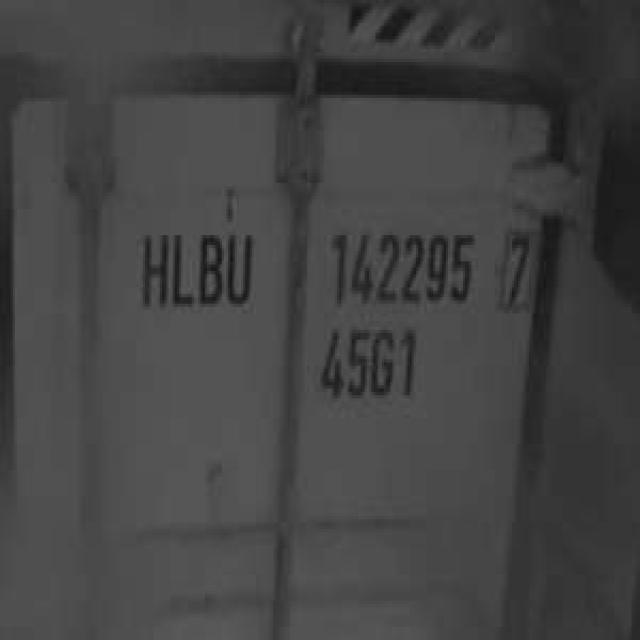dv: (495, 222, 538, 317)
owner: (132, 216, 258, 316)
serial: (320, 219, 478, 310)
size: (314, 317, 422, 408)
